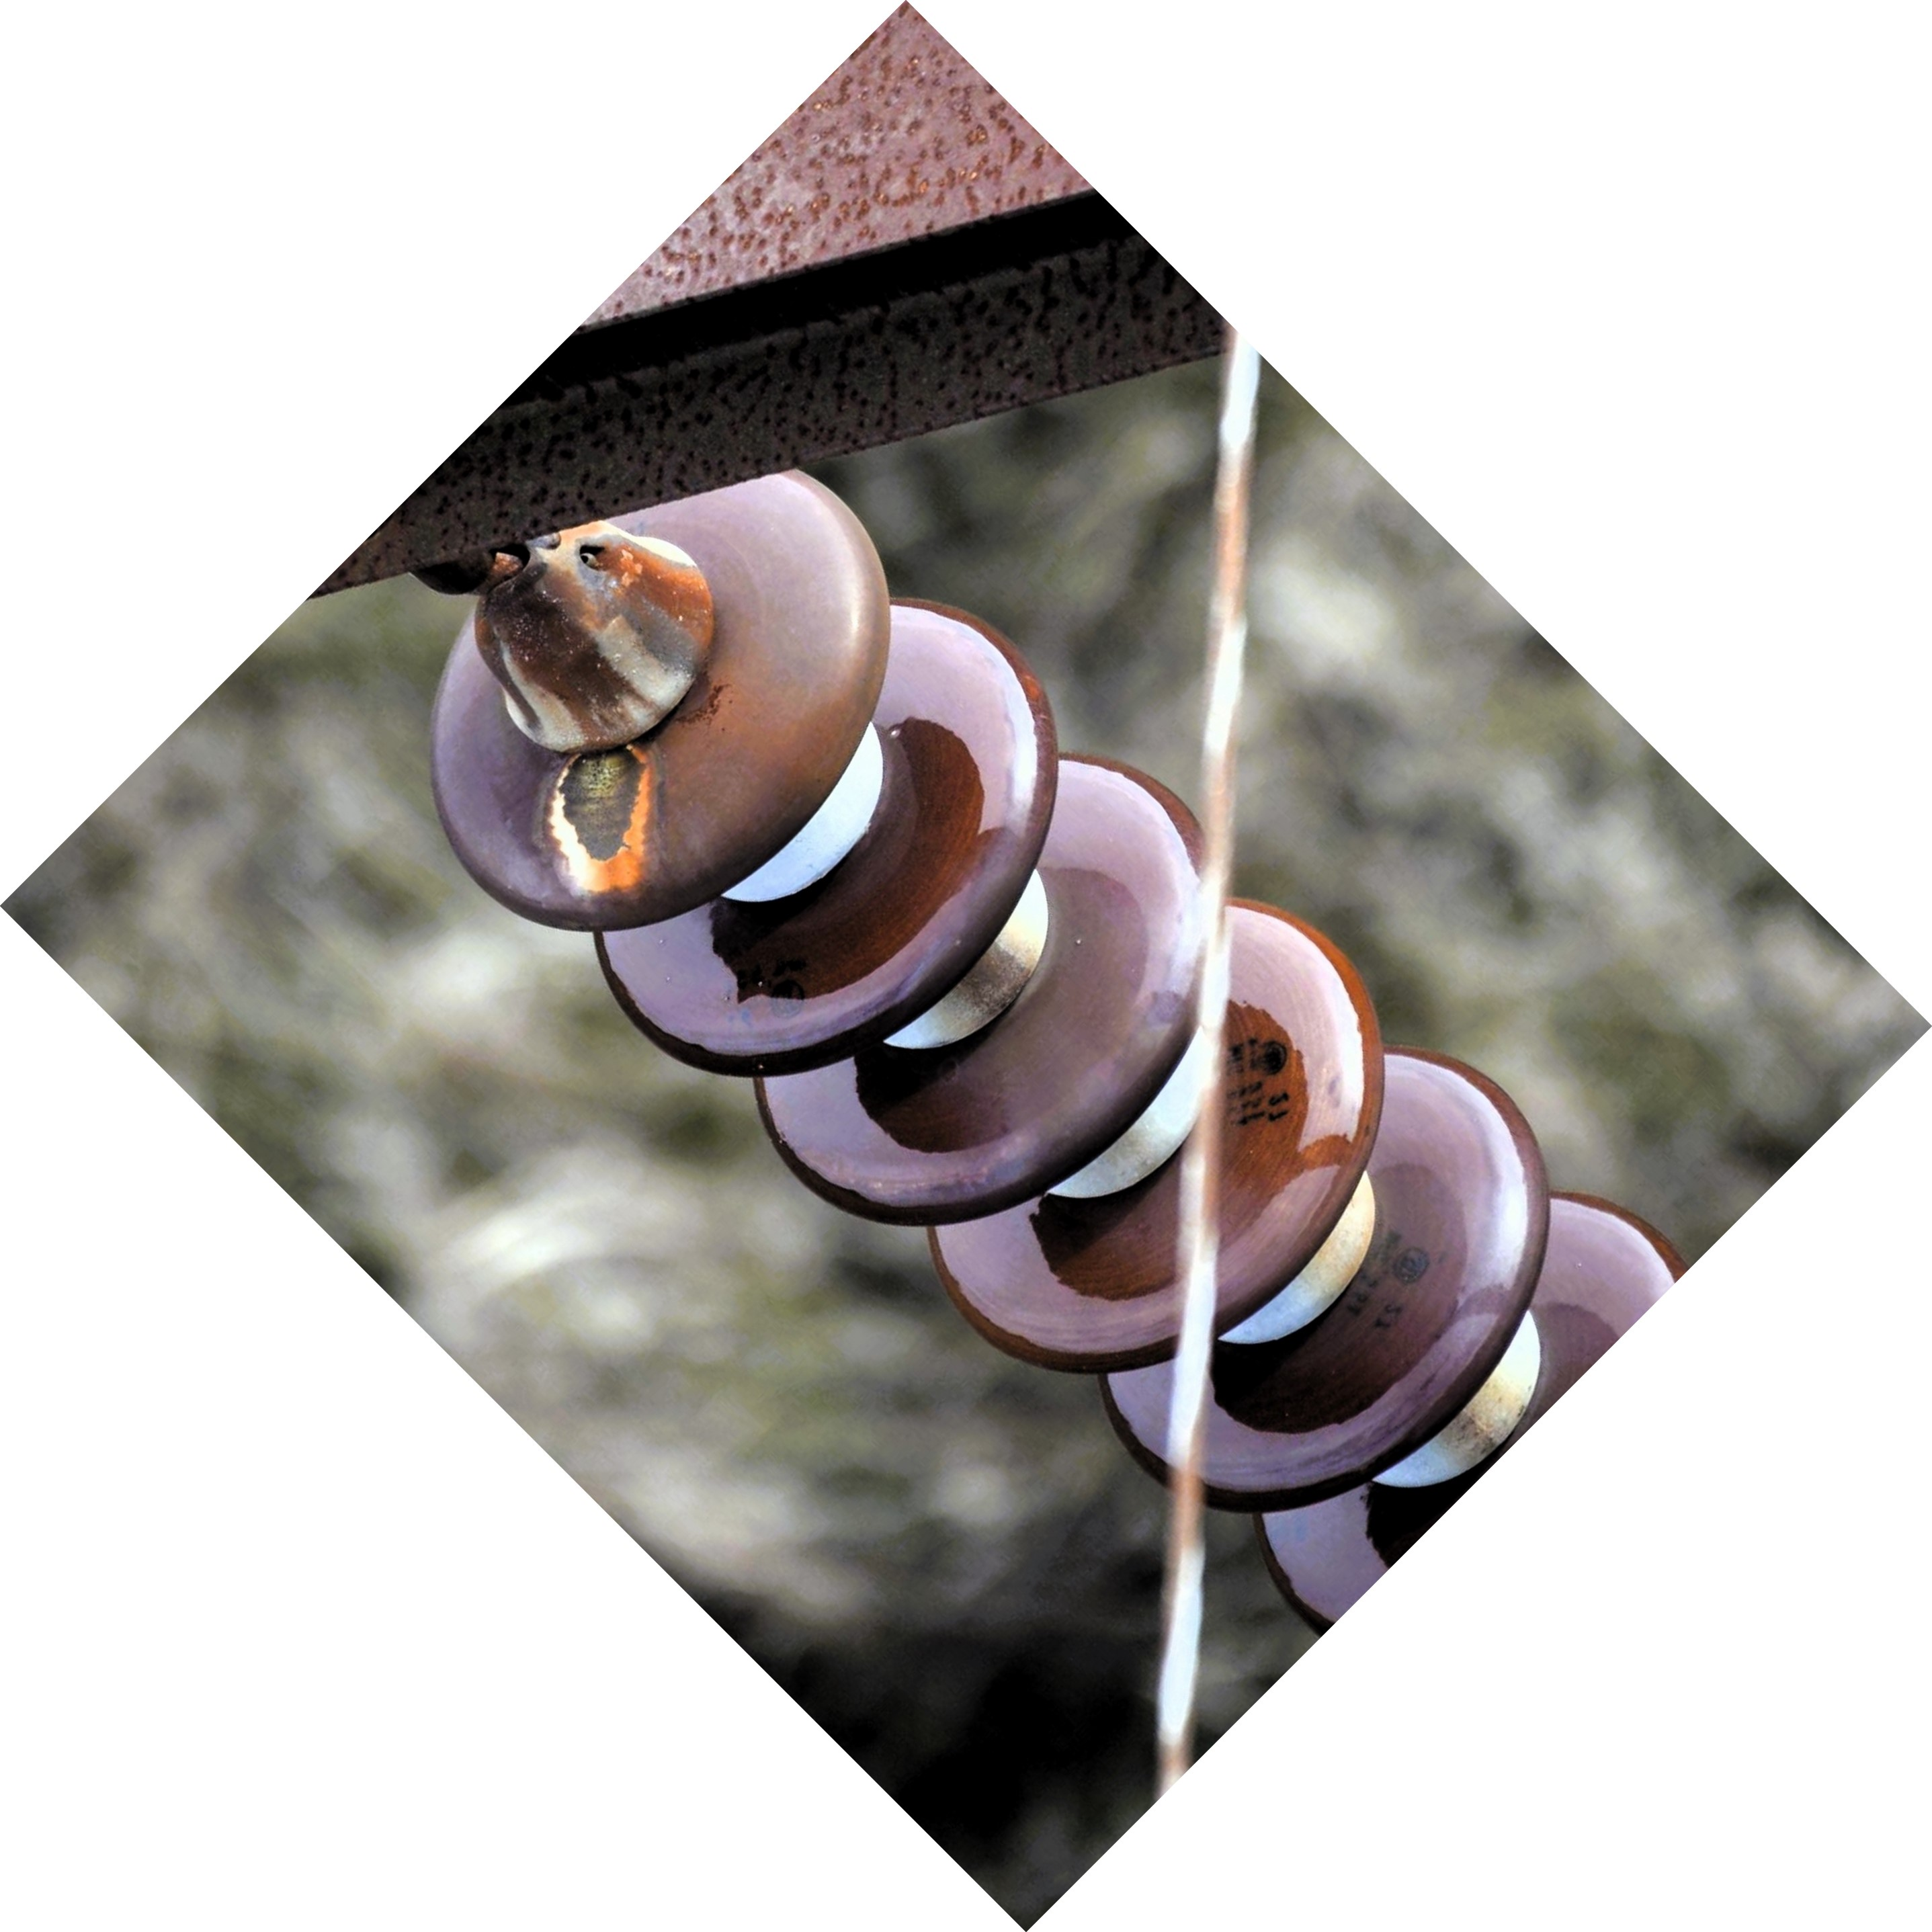Insulator flashover: (410, 458, 895, 943)
